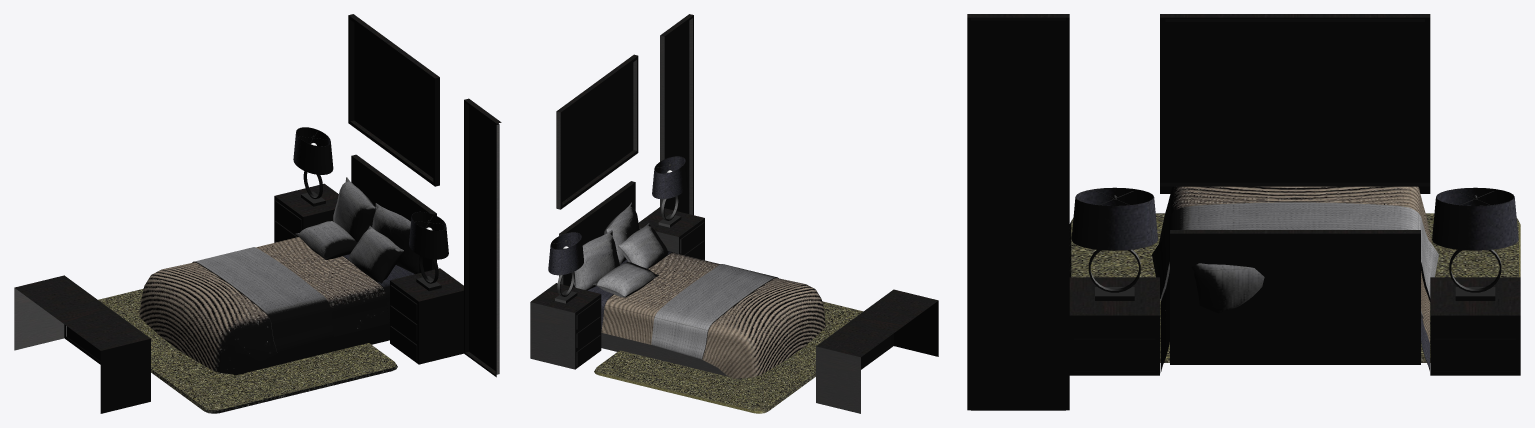
The model's file is recamara01b.gltf.
3 renders of one model, left to right at view 1: azimuth 30°, elevation 25°; view 2: azimuth 150°, elevation 25°; view 3: azimuth 270°, elevation 25°, orthographic. The views are drawn at different scales.
Visible parts, largest first — view 1: Recamara__UV_; view 2: Recamara__UV_; view 3: Recamara__UV_.
Boxes of the visible parts, x1=… form: Recamara__UV_: x1=14, y1=14, x2=501, y2=413; Recamara__UV_: x1=530, y1=14, x2=938, y2=413; Recamara__UV_: x1=967, y1=14, x2=1520, y2=410.
Size of the model in its own units: 3.38 by 2.42 by 3.06.
1 material, 1 textured.
